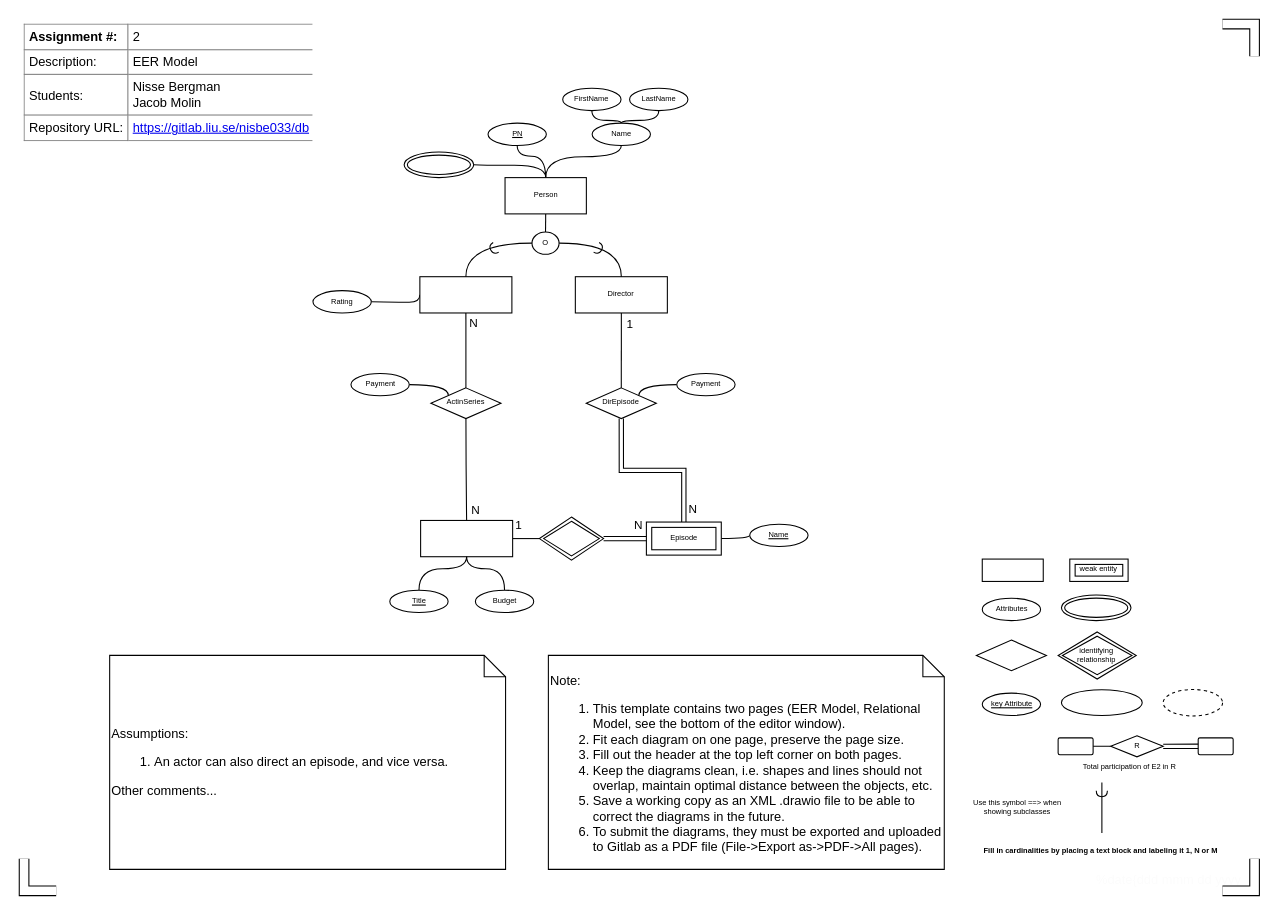
The diagram is 1279 pixels wide and 919 high, and some of its shapes have lost their labels. The shapes that lost their labels are listed below. From the top down, each one's centre as x and y in pixels, then its label:
At point 438,164: "Nickname".
At point 465,294: "Actor".
At point 466,538: "TV Series".
At point 571,538: "has_episode".
At point 1012,569: "Entity".
At point 1095,607: "multivalued attribute".
At point 1010,655: "Relationship".
At point 1101,702: "part of key attribute".
At point 1192,702: "derived attribute".
At point 1075,746: "E1".
At point 1215,746: "E2".
